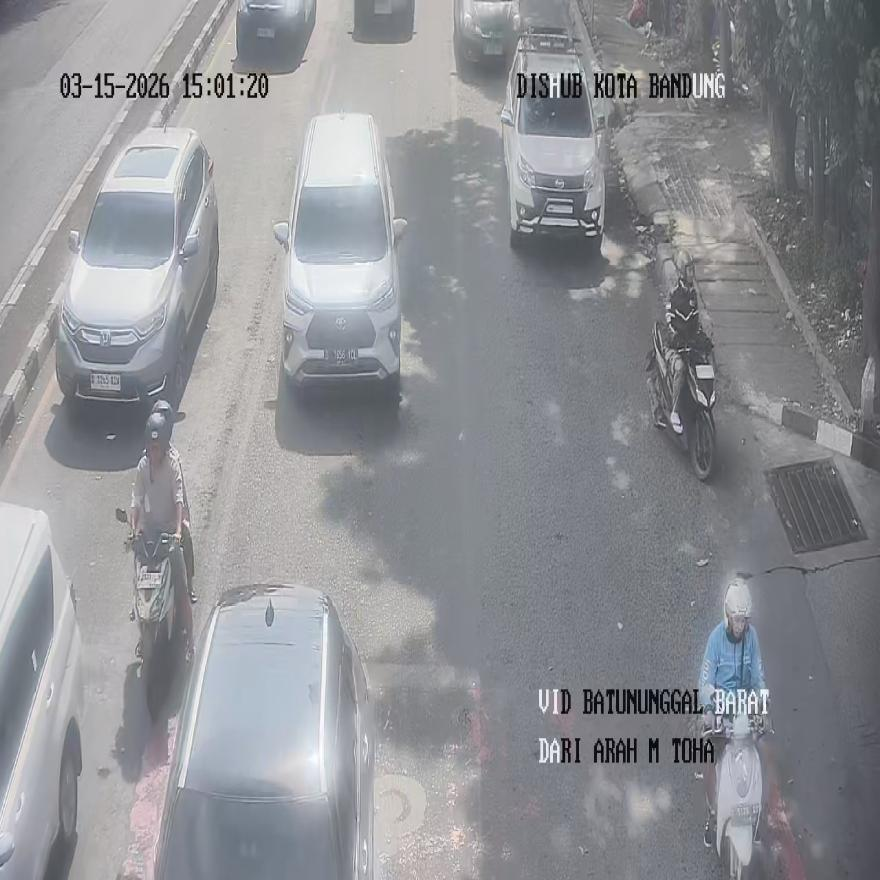Motor: (152, 583, 376, 879), (55, 127, 219, 403), (273, 112, 407, 390), (0, 502, 85, 877), (501, 24, 607, 246), (453, 0, 520, 62)
Truk: (117, 509, 193, 722), (702, 690, 767, 877), (646, 319, 717, 480)
